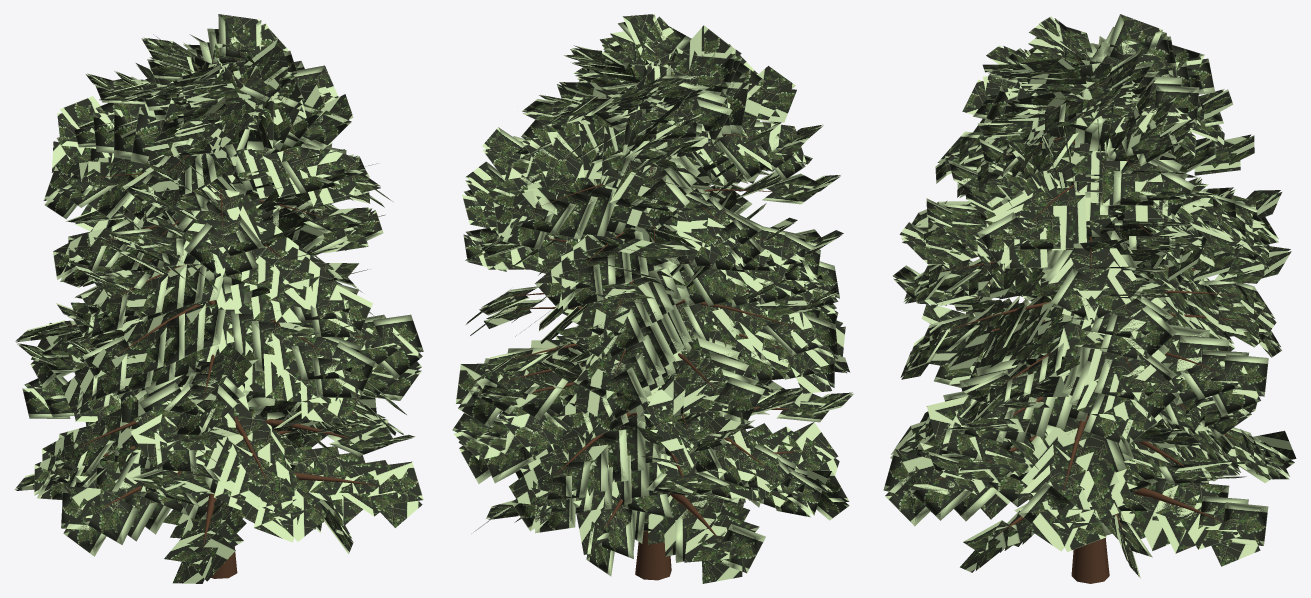
Rendered from Gran_19m.gltf.
3 views of the same model, side by side, from view 1: azimuth 30°, elevation 25°; view 2: azimuth 150°, elevation 25°; view 3: azimuth 270°, elevation 25° (orthographic).
Parts seen in each view (by area): view 1: root; view 2: root; view 3: root.
Part boxes in pixels (x1,y1,x2,y2): root: (14, 14, 423, 583); root: (452, 14, 853, 583); root: (883, 14, 1296, 583).
Bounding box in the file's own units: 22.48 × 32.43 × 22.48.
2 materials, 1 textured.
